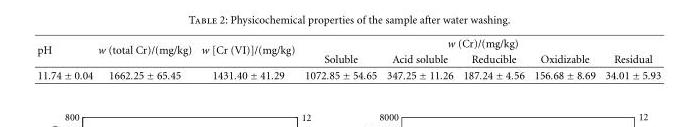table: (36, 37, 660, 87)
table column: (196, 37, 299, 87), (94, 37, 196, 87), (299, 37, 381, 87), (381, 37, 457, 87), (457, 37, 528, 87), (528, 37, 599, 87), (599, 37, 660, 87), (36, 37, 94, 87)
table column header: (36, 37, 660, 66)
table row: (36, 66, 660, 87), (36, 50, 660, 66), (36, 37, 660, 50)
table spanning cell: (299, 37, 660, 50), (196, 37, 299, 66), (94, 37, 196, 66), (36, 37, 94, 66)
